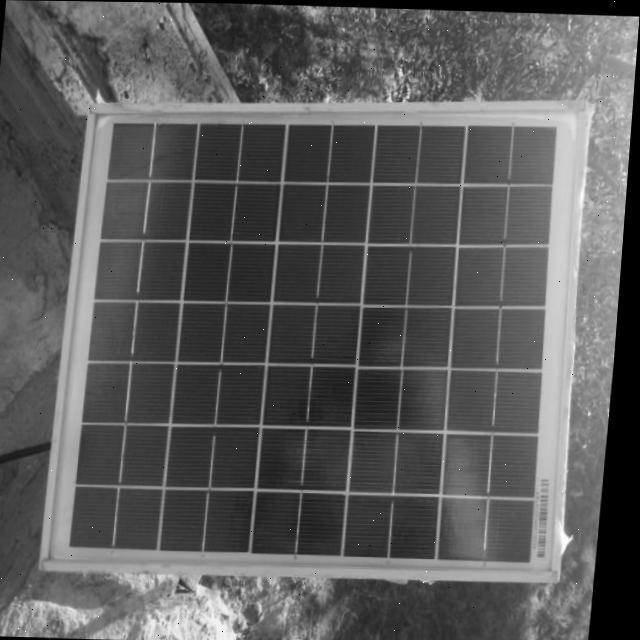Normal Solar Panel: (50, 86, 602, 584)
